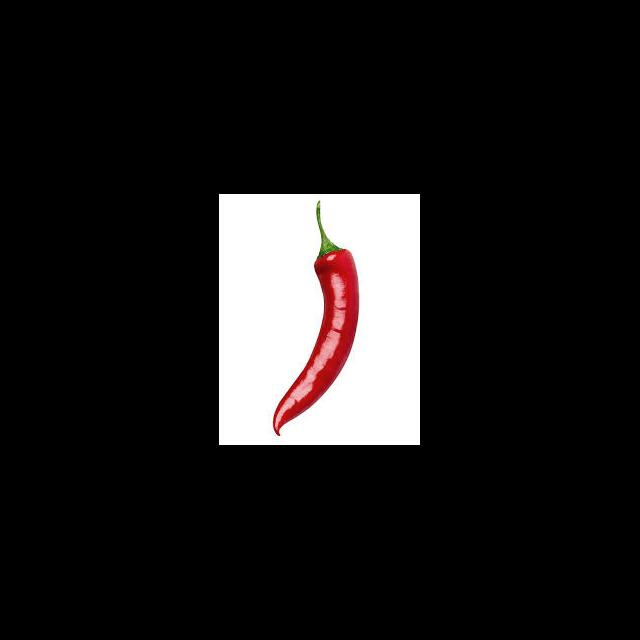chili_pepper: (270, 202, 360, 436)
